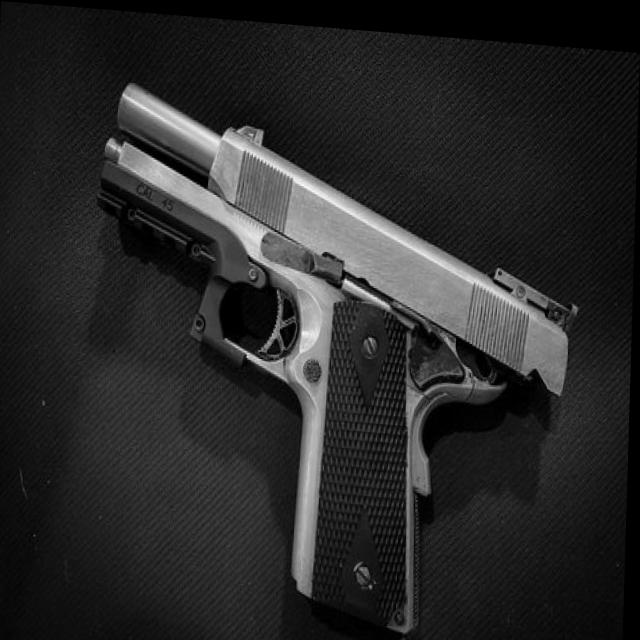handgun: (94, 78, 572, 640)
